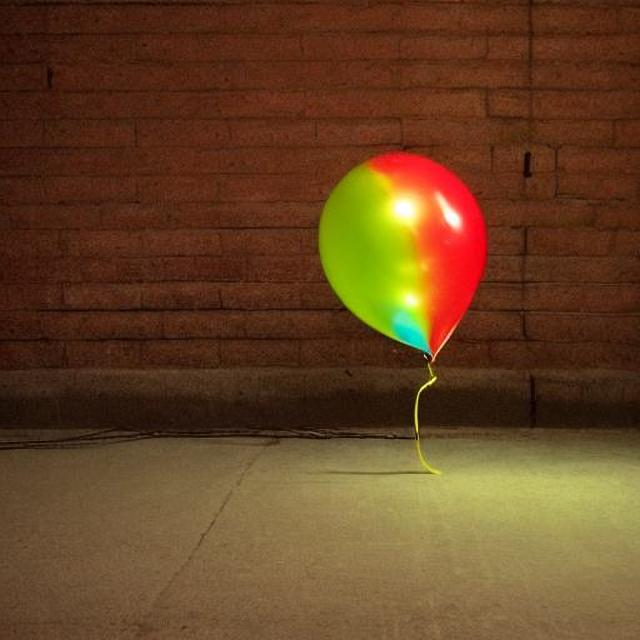balloon: (305, 145, 487, 388)
